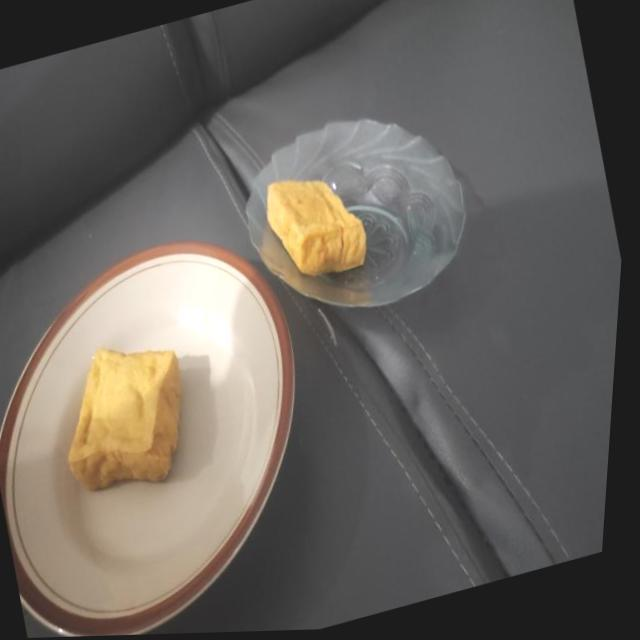tahu_goreng: (68, 348, 181, 490), (266, 180, 366, 276)
